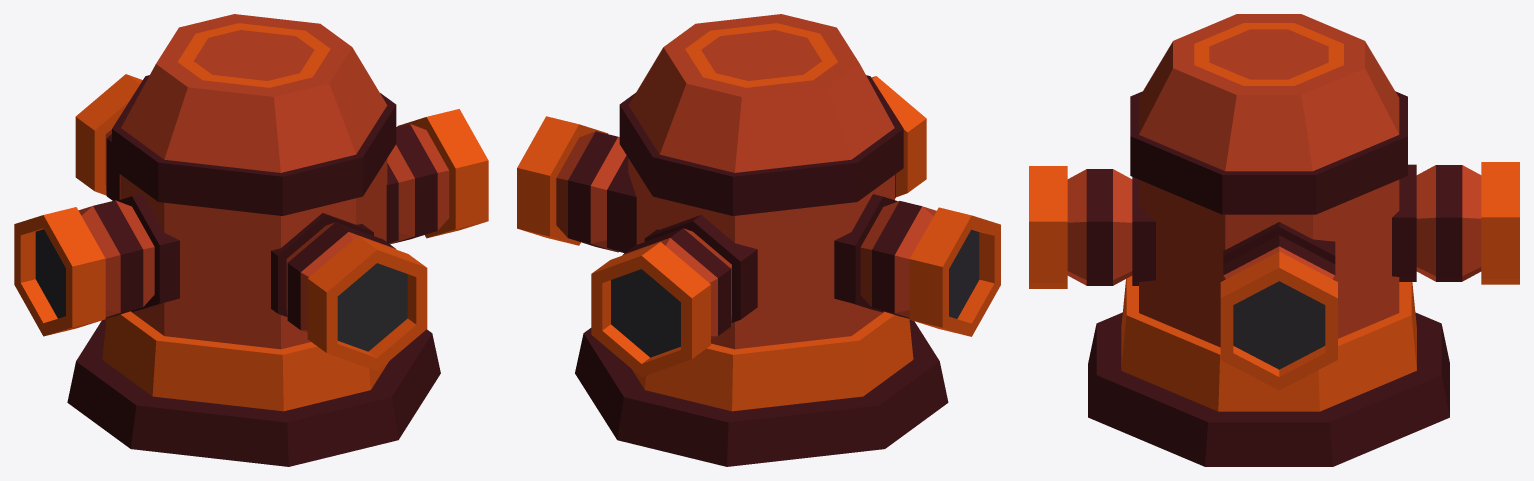
The model's file is TorchUpg1.fbx.
3 views of the same model, side by side, from view 1: azimuth 30°, elevation 25°; view 2: azimuth 150°, elevation 25°; view 3: azimuth 270°, elevation 25° (orthographic).
Visible parts, largest first — view 1: Cube.008, Cube.020; view 2: Cube.008, Cube.020; view 3: Cube.008, Cube.020.
Boxes of the visible parts, box(x1,y1,x2,y2) form: Cube.008: box(67, 14, 440, 466); Cube.020: box(14, 74, 488, 371); Cube.008: box(575, 14, 948, 466); Cube.020: box(517, 76, 1000, 377); Cube.008: box(1088, 14, 1449, 466); Cube.020: box(1029, 162, 1519, 390).
Size of the model in its own units: 141 by 106 by 141.
